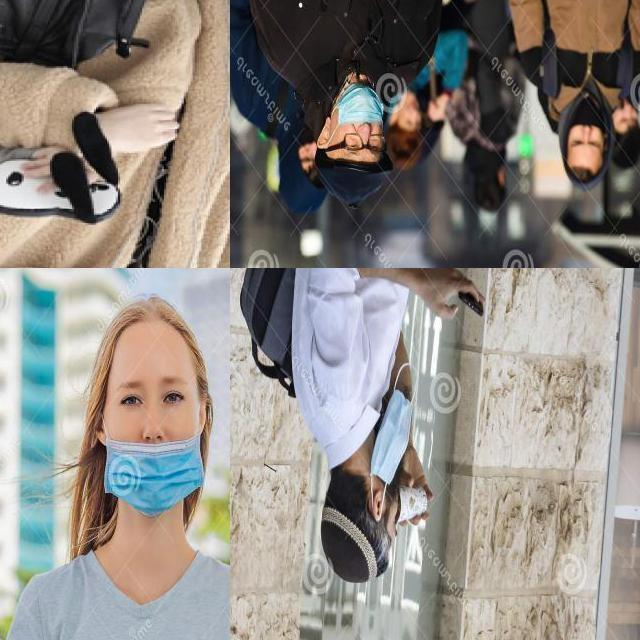hairnet: (102, 412, 207, 512), (329, 86, 384, 141), (565, 101, 604, 142)
